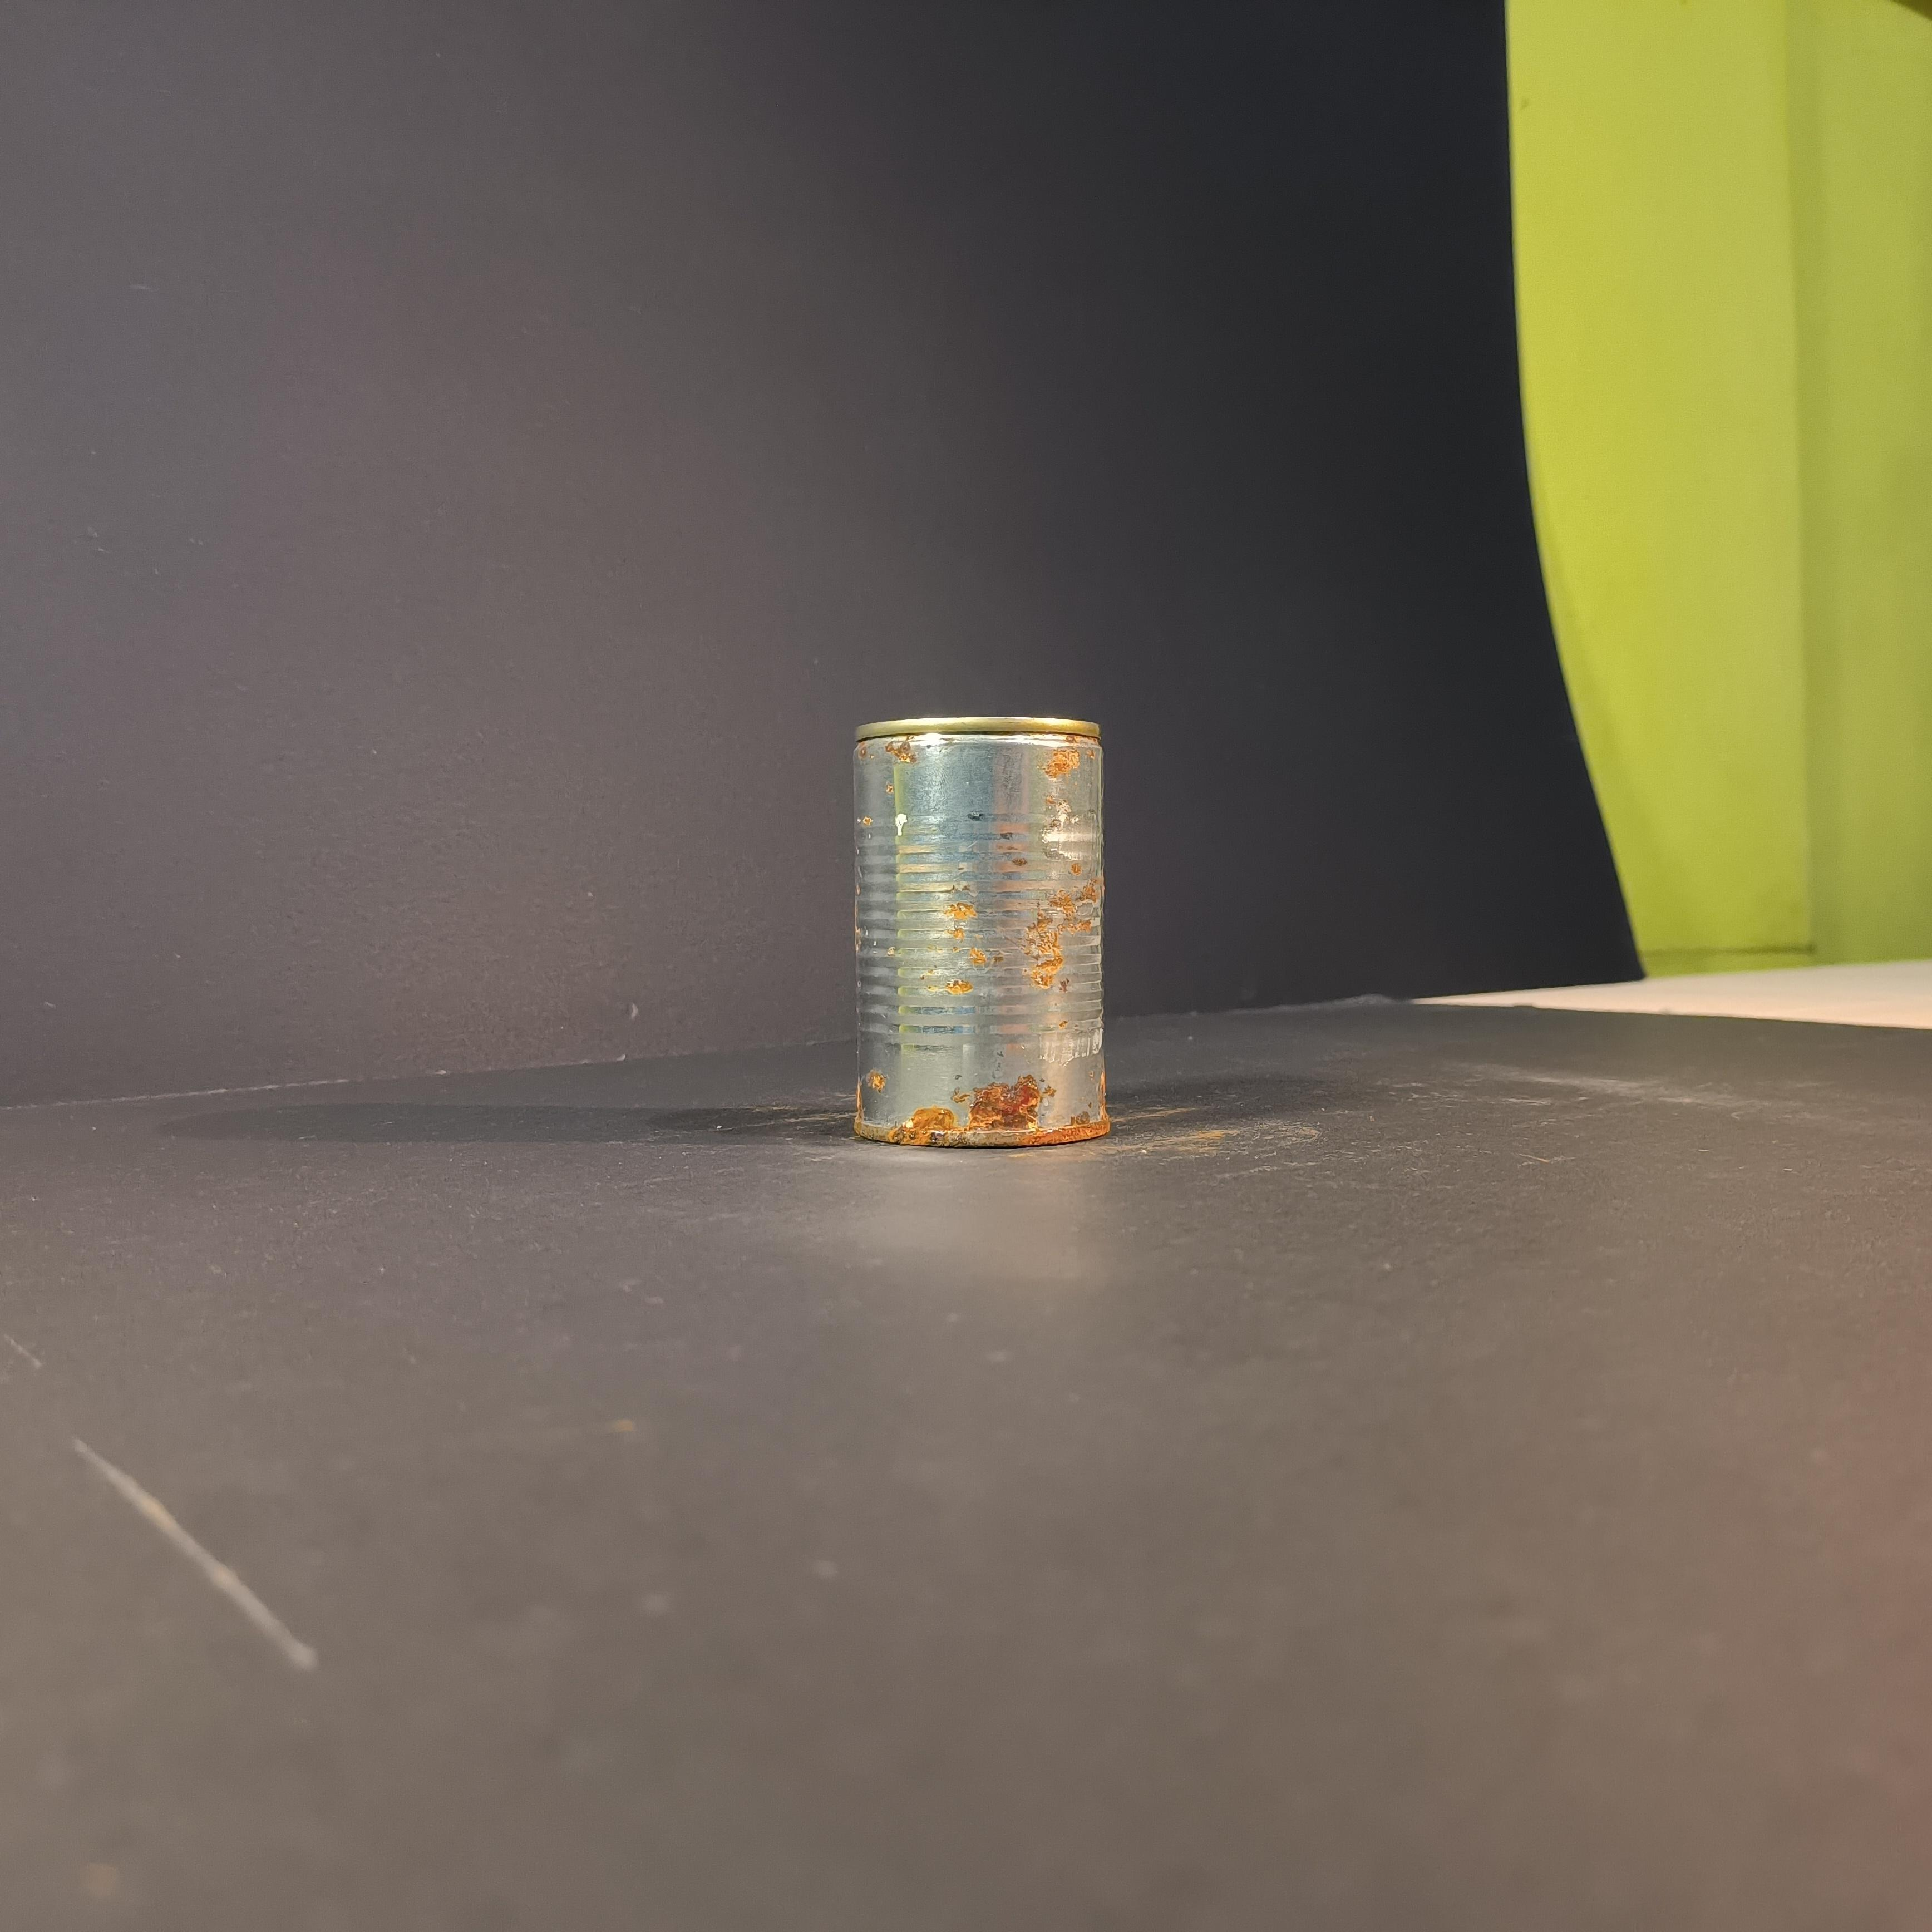Rusted: (826, 690, 1136, 1155)
